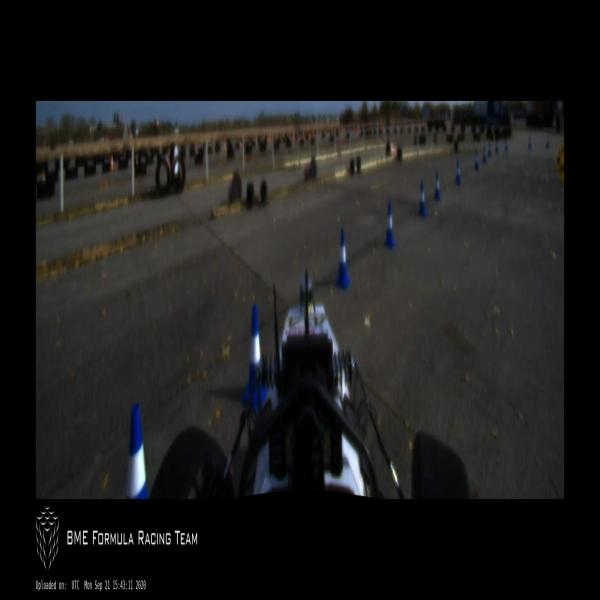blue_cone: (242, 305, 267, 411), (125, 401, 147, 499), (336, 229, 350, 287), (384, 202, 395, 248), (418, 182, 426, 215), (433, 172, 441, 200), (455, 160, 461, 183), (474, 149, 479, 171), (482, 145, 486, 164), (527, 135, 532, 149), (546, 135, 550, 150), (488, 142, 491, 158), (505, 139, 508, 151), (496, 139, 498, 154)
yellow_cone: (559, 159, 564, 180), (556, 152, 560, 172), (561, 140, 564, 160)
